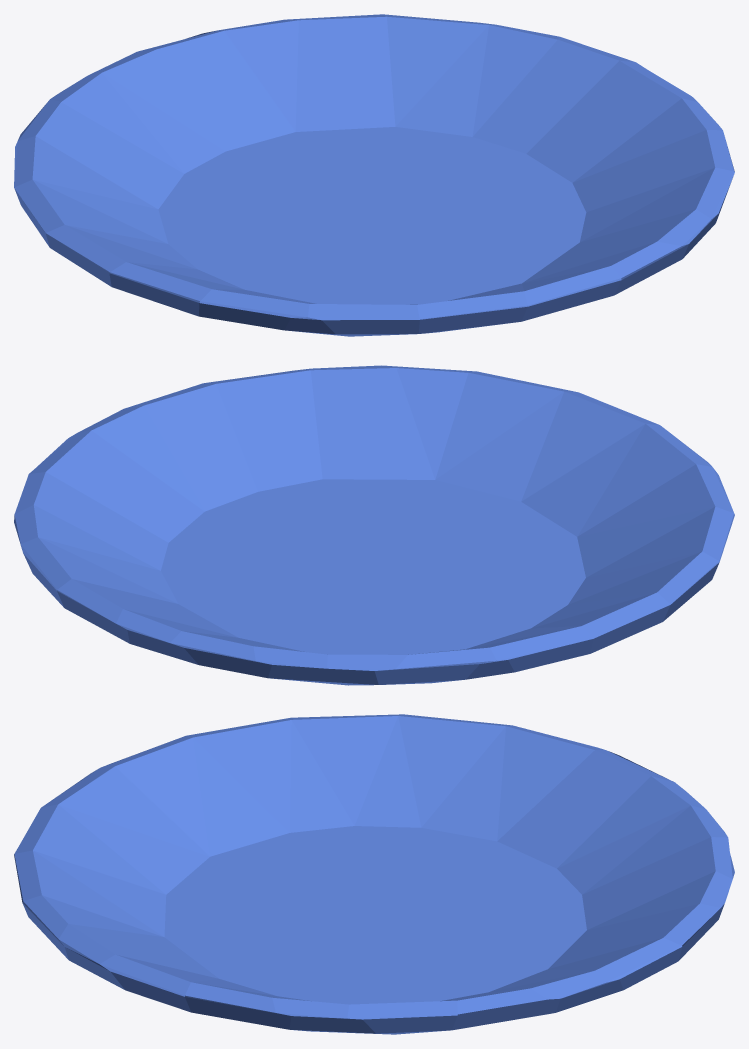
File: CATastrophePlate.fbx
The picture shows the model from 3 angles, top to bottom: view 1: azimuth 30°, elevation 25°; view 2: azimuth 150°, elevation 25°; view 3: azimuth 270°, elevation 25°; orthographic projection.
Visible parts, largest first — view 1: Cylinder; view 2: Cylinder; view 3: Cylinder.
Part boxes in pixels (x1=…): Cylinder: x1=14, y1=14, x2=734, y2=336; Cylinder: x1=14, y1=365, x2=734, y2=685; Cylinder: x1=14, y1=714, x2=734, y2=1034.
Size of the model in its own units: 39.32 by 4.94 by 39.33.
